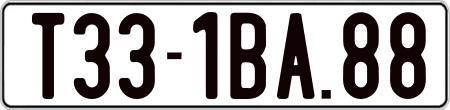1: (192, 10, 222, 98)
3: (118, 12, 157, 101), (74, 10, 113, 96)
8: (388, 12, 429, 99), (340, 11, 378, 99)
A: (275, 11, 313, 98)
B: (230, 11, 268, 103)
T: (31, 11, 69, 99)
